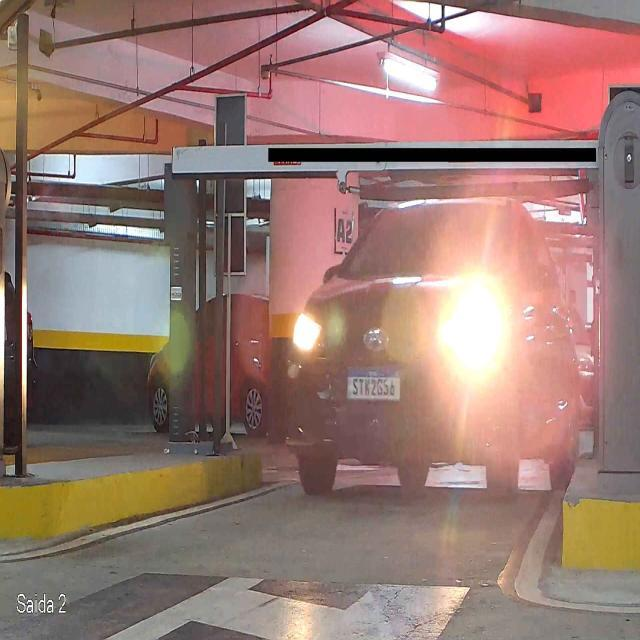mercosul_plate: (343, 366, 404, 403)
